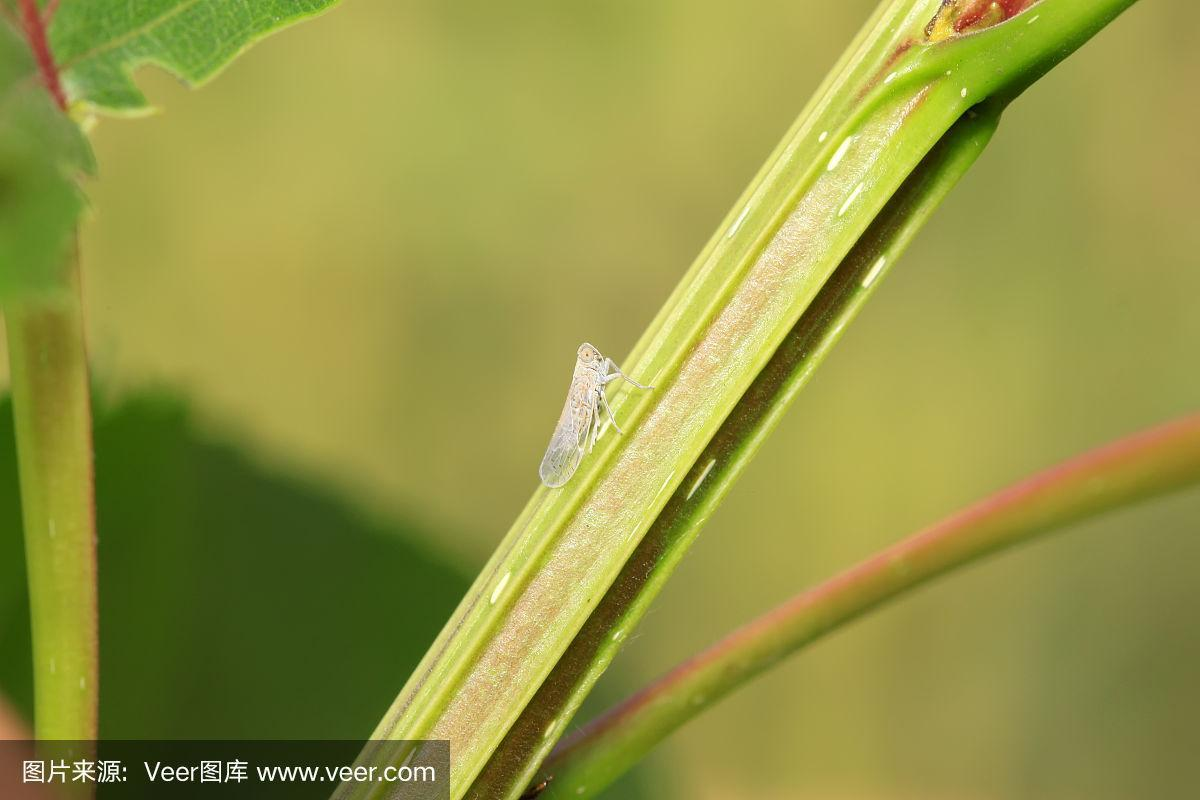Cicadellidae: (539, 341, 654, 490)
